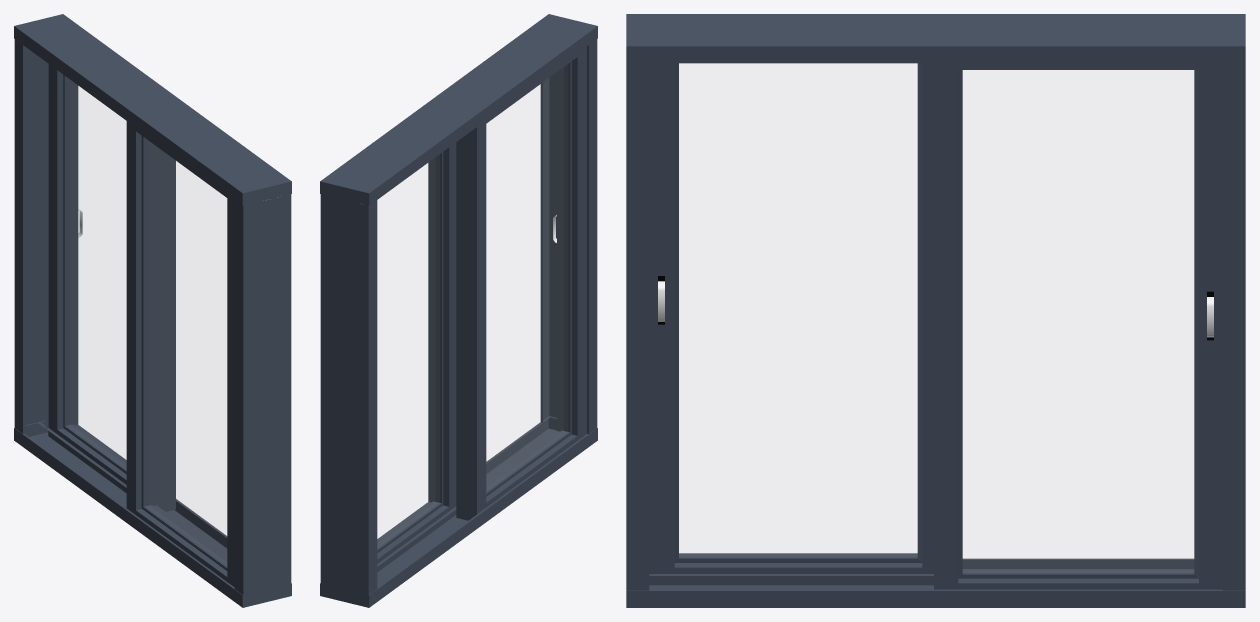
The model's file is DefaultWindow.fbx.
The picture shows the model from 3 angles, left to right: view 1: azimuth 30°, elevation 25°; view 2: azimuth 150°, elevation 25°; view 3: azimuth 270°, elevation 25°; orthographic projection. The views are drawn at different scales.
Parts seen in each view (by area): view 1: Plane.001; view 2: Plane.001; view 3: Plane.001.
Part boxes in pixels (x1,y1,x2,y2): Plane.001: [14, 14, 291, 607]; Plane.001: [320, 14, 597, 607]; Plane.001: [626, 14, 1245, 607].
Size of the model in its own units: 27.5 by 200 by 200.
